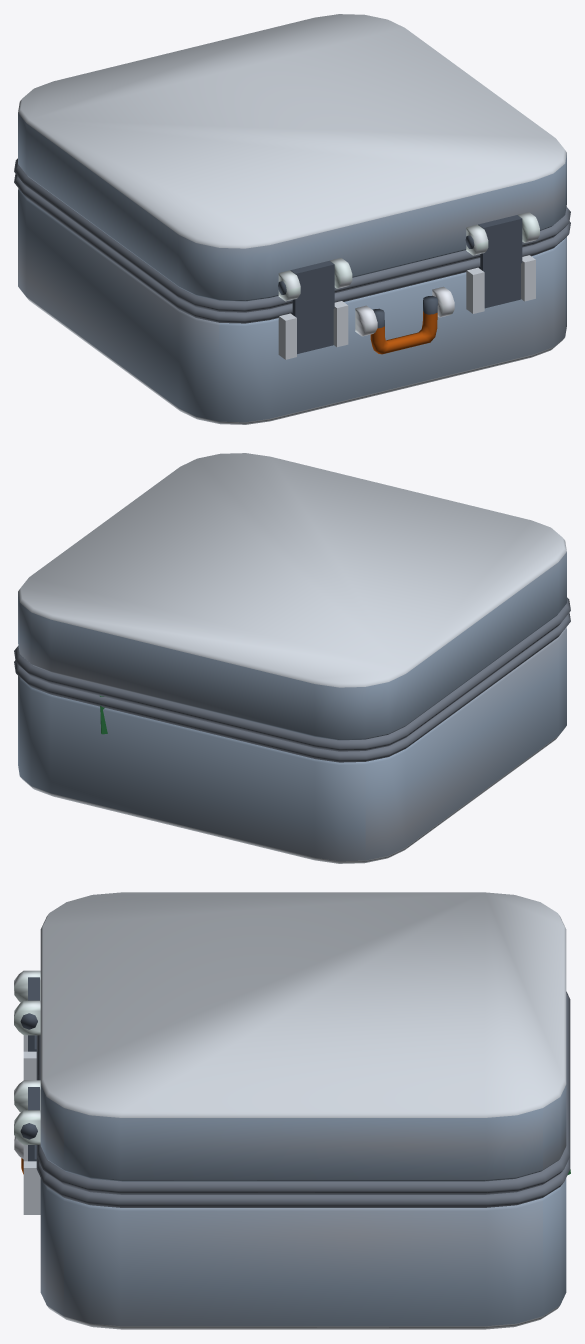
The model's file is Case.fbx.
3 views of the same model, one above another, from view 1: azimuth 30°, elevation 25°; view 2: azimuth 150°, elevation 25°; view 3: azimuth 270°, elevation 25° (orthographic). The views are drawn at different scales.
Parts seen in each view (by area): view 1: Case_up, Case_down, Lock; view 2: Case_up, Case_down; view 3: Case_up, Case_down, Lock.
Part boxes in pixels (x1,y1,x2,y2): Case_up: [14, 14, 570, 312]; Case_down: [14, 173, 570, 424]; Lock: [290, 215, 522, 323]; Case_up: [14, 453, 570, 751]; Case_down: [14, 612, 570, 863]; Case_up: [14, 892, 570, 1194]; Case_down: [14, 1035, 570, 1329]; Lock: [28, 977, 39, 1161].
Size of the model in its own units: 671 by 302 by 700.
